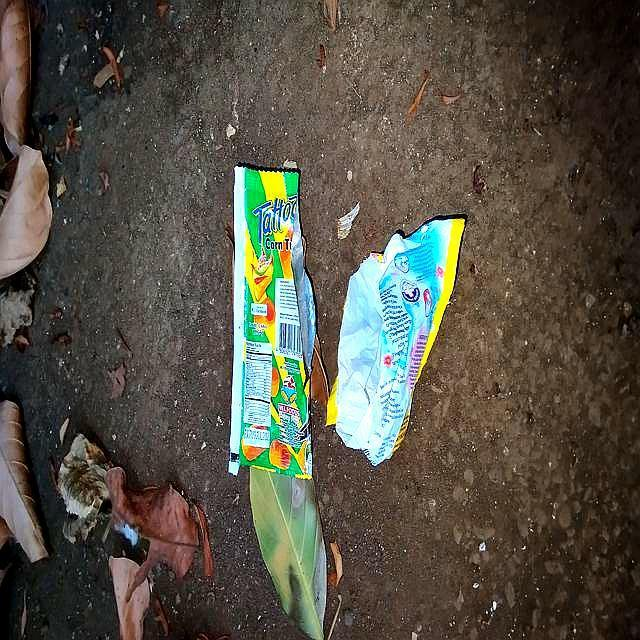Non-biodegradable: (329, 225, 467, 467), (227, 163, 319, 489)
